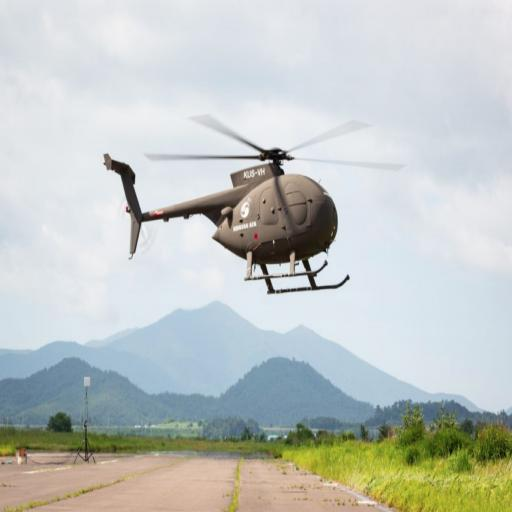helicopter: (103, 118, 412, 295)
